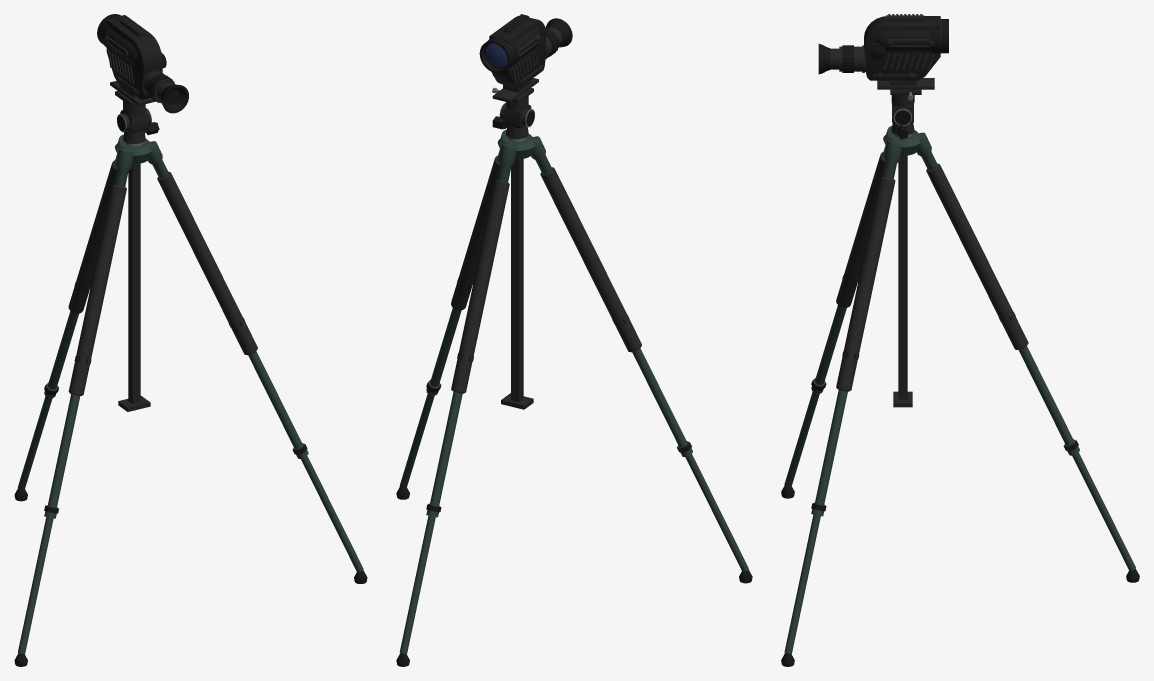
The model's file is spotter60_stand.glb.
3 views of the same model, side by side, from view 1: azimuth 30°, elevation 25°; view 2: azimuth 150°, elevation 25°; view 3: azimuth 270°, elevation 25° (orthographic).
Visible parts, largest first — view 1: spotter60_stand; view 2: spotter60_stand; view 3: spotter60_stand.
Boxes of the visible parts, x1,y1,x2,y2 form: spotter60_stand: [14, 14, 367, 666]; spotter60_stand: [396, 14, 752, 666]; spotter60_stand: [781, 14, 1139, 666].
Size of the model in its own units: 1.08 by 1.62 by 0.936.
